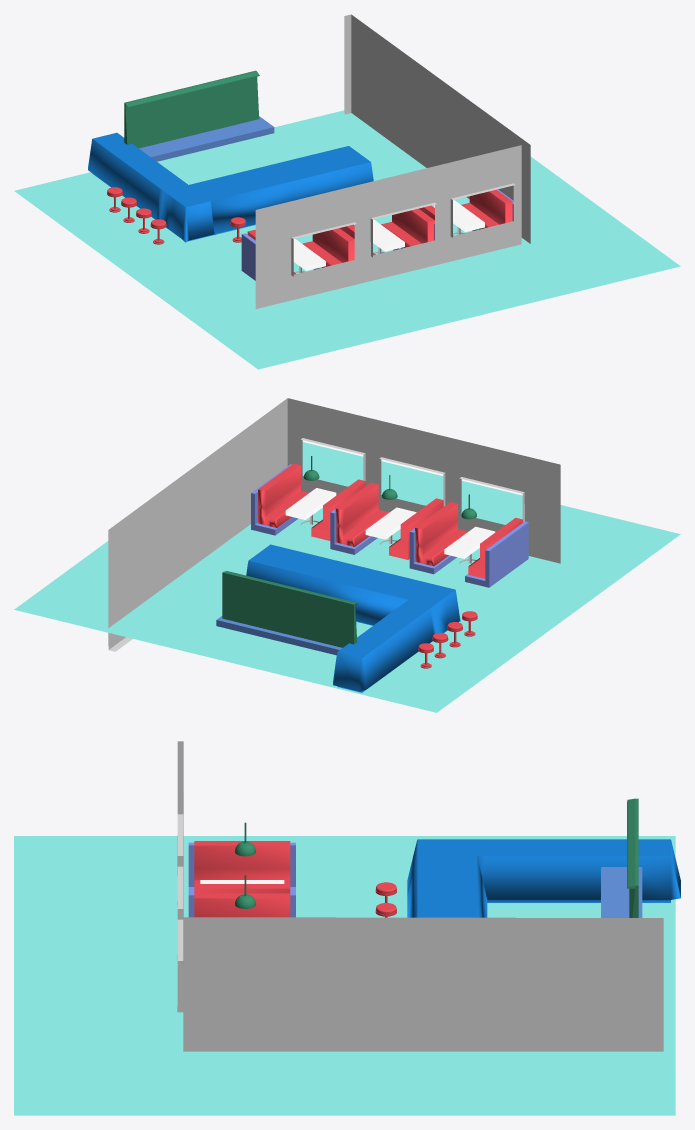
File: three1.glb
3 renders of one model, top to bottom at view 1: azimuth 30°, elevation 25°; view 2: azimuth 150°, elevation 25°; view 3: azimuth 270°, elevation 25°, orthographic. The views are drawn at different scales.
Visible parts, largest first — view 1: floor, Plane, Cube.011, Plane.002, Plane.001, sofa1, Cube.012, Cube.013, Cube.008, Cube.005, Cube.009, Cube.014; view 2: floor, Plane, Cube.011, Plane.002, sofa1, Cube.012, Cube.013, Cube.009, Plane.001, Cube.004, Cube.007, Cube.005 (+6 smaller); view 3: floor, Plane, Cube.011, Cube.010, Cube.004, Plane.001, Plane.002, Cube.012, Cube.009.
Part boxes in pixels (x1,y1,x2,y2): floor: (14,110,680,369); Plane: (255,14,530,308); Cube.011: (88,132,373,242); Plane.002: (124,70,259,148); Plane.001: (139,116,274,161); sofa1: (381,208,434,248); Cube.012: (302,228,354,267); Cube.013: (461,189,512,229); Cube.008: (293,239,325,270); Cube.005: (434,200,484,231); Cube.009: (241,233,255,280); Cube.014: (354,219,404,251); floor: (14,442,680,712); Plane: (108,398,560,651); Cube.011: (246,544,460,692); Plane.002: (222,571,358,647); sofa1: (335,482,389,546); Cube.012: (415,502,467,566); Cube.013: (258,463,308,527); Cube.009: (465,521,528,587); Plane.001: (216,616,342,655); Cube.004: (389,498,443,559); Cube.007: (311,479,365,540); Cube.005: (285,488,336,519); floor: (14,836,675,1115); Plane: (177,741,663,1051); Cube.011: (407,839,680,917); Cube.010: (194,841,290,883); Cube.004: (194,893,290,917); Plane.001: (601,867,642,917); Plane.002: (627,798,638,917); Cube.012: (194,884,290,893); Cube.009: (188,842,295,892).
Bounding box in the file's own units: 43.18 × 11.81 × 43.51.
